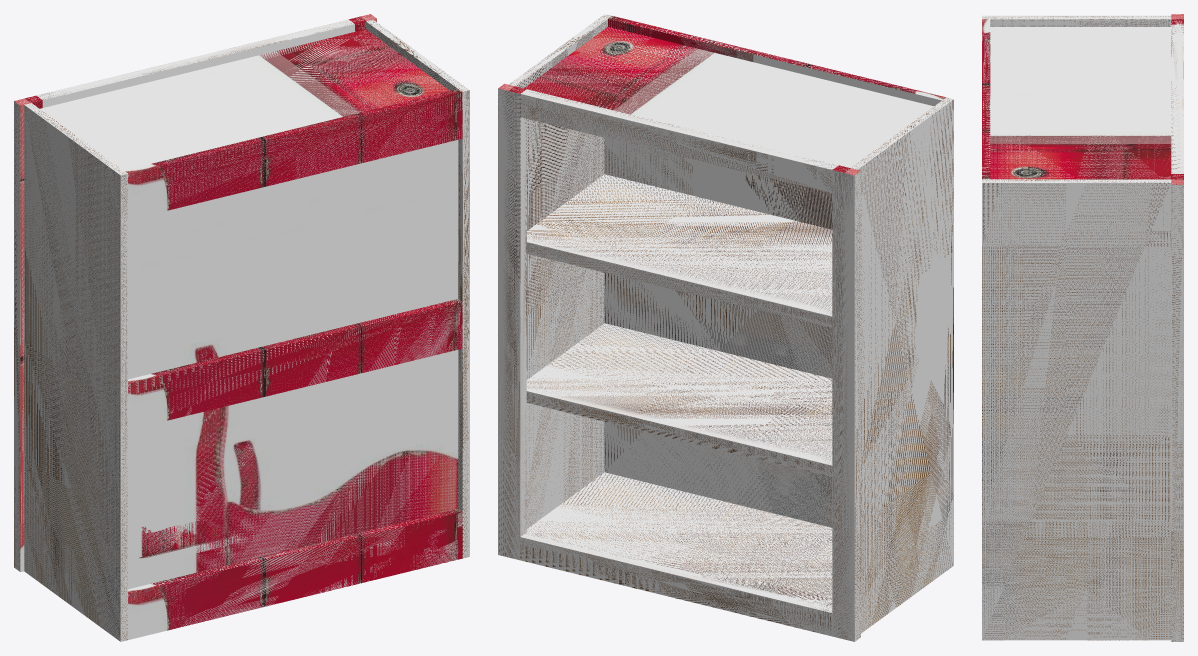
3 renders of one model, left to right at view 1: azimuth 30°, elevation 25°; view 2: azimuth 150°, elevation 25°; view 3: azimuth 270°, elevation 25°, orthographic. The views are drawn at different scales.
Parts seen in each view (by area): view 1: mesh6_mesh6-geometry, mesh3_mesh3-geometry, mesh7_mesh7-geometry, mesh1_mesh1-geometry, mesh8_mesh8-geometry, mesh10_mesh10-geometry, mesh4_mesh4-geometry, mesh14_mesh14-geometry; view 2: mesh13_mesh13-geometry, mesh7_mesh7-geometry, mesh5_mesh5-geometry, mesh1_mesh1-geometry, mesh8_mesh8-geometry, mesh11_mesh11-geometry, mesh4_mesh4-geometry, mesh10_mesh10-geometry, mesh9_mesh9-geometry, mesh3_mesh3-geometry; view 3: mesh8_mesh8-geometry, mesh1_mesh1-geometry, mesh9_mesh9-geometry, mesh7_mesh7-geometry, mesh4_mesh4-geometry, mesh3_mesh3-geometry.
Part boxes in pixels (x1,y1,x2,y2): mesh6_mesh6-geometry: (128,140,458,589); mesh3_mesh3-geometry: (124,89,462,639); mesh7_mesh7-geometry: (24,103,127,641); mesh1_mesh1-geometry: (40,29,449,170); mesh8_mesh8-geometry: (366,19,469,558); mesh10_mesh10-geometry: (14,95,42,572); mesh4_mesh4-geometry: (36,19,354,107); mesh14_mesh14-geometry: (128,513,256,569); mesh13_mesh13-geometry: (526,174,832,476); mesh7_mesh7-geometry: (850,97,953,633); mesh5_mesh5-geometry: (604,138,832,527); mesh1_mesh1-geometry: (524,27,933,167); mesh8_mesh8-geometry: (508,14,611,528); mesh11_mesh11-geometry: (526,472,832,606); mesh4_mesh4-geometry: (520,89,838,636); mesh10_mesh10-geometry: (832,165,860,641); mesh9_mesh9-geometry: (498,83,526,560); mesh3_mesh3-geometry: (608,16,945,106); mesh8_mesh8-geometry: (982,179,1171,640); mesh1_mesh1-geometry: (990,27,1171,179); mesh9_mesh9-geometry: (1171,174,1183,641); mesh7_mesh7-geometry: (982,15,1171,26); mesh4_mesh4-geometry: (1171,24,1183,173); mesh3_mesh3-geometry: (982,19,990,179).
Size of the model in its own units: 0.5963 by 0.7454 by 0.2981.
